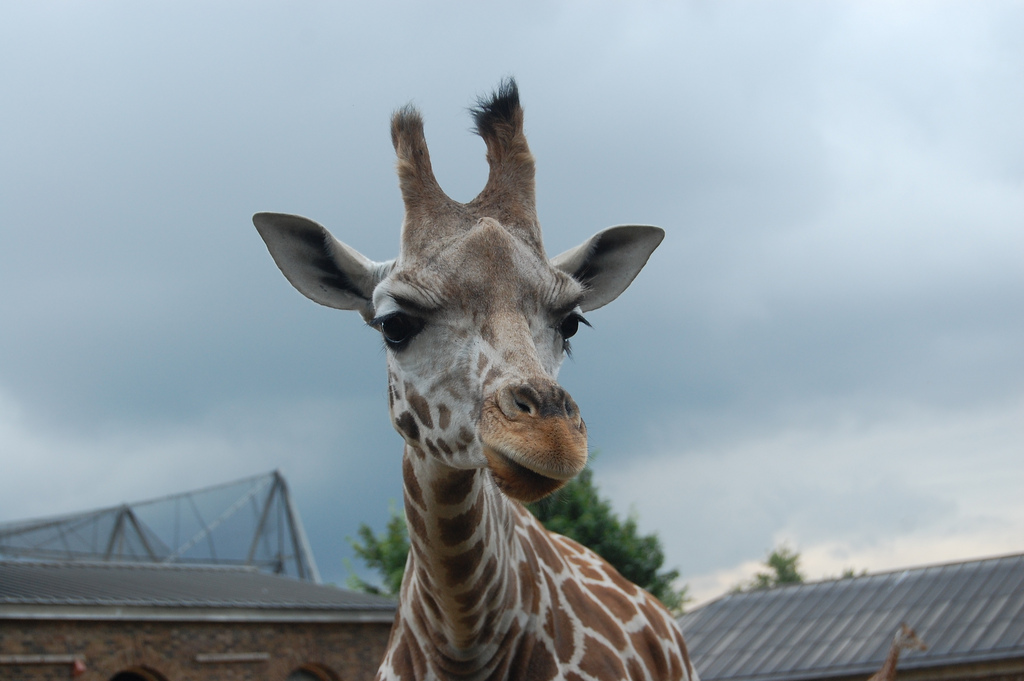giraffe: (234, 68, 725, 652)
